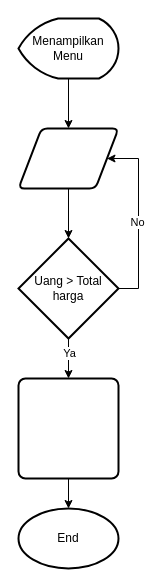
The diagram is 164 pixels wide and 586 high, and some of its shapes have lost their labels. Each missing label, with the centre of its shape:
"Hitung kembalian" belongs at pixel 68 428.
"Input nominal" belongs at pixel 68 158.
